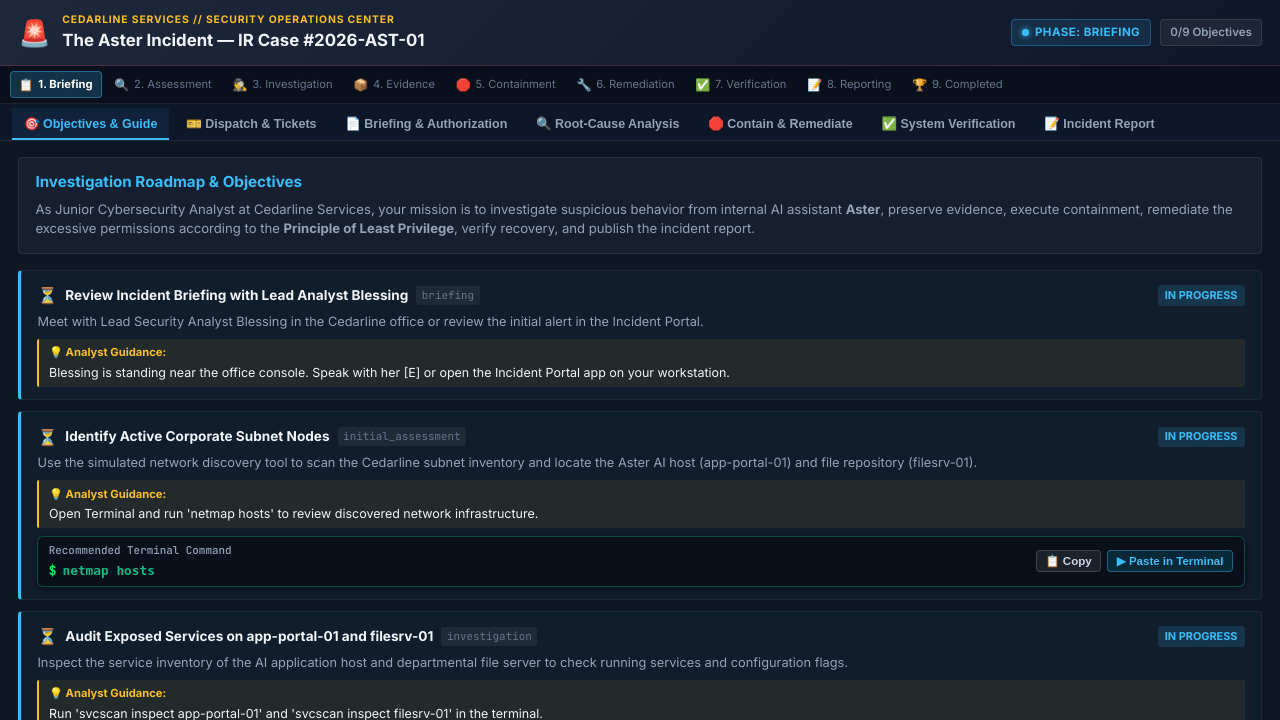
Test: IncidentApp Component › renders command copy chips in overview and allows copying incident report to clipboard
The width and height of the screenshot is (1280, 720).
expect the element with test id "command-chip-netmap_hosts" is shown: met, box [37,536,1245,586]
// Switch to Report tab
Click the tab with test id "incident-tab-report" at (1100, 124), box [1032,108,1167,140]
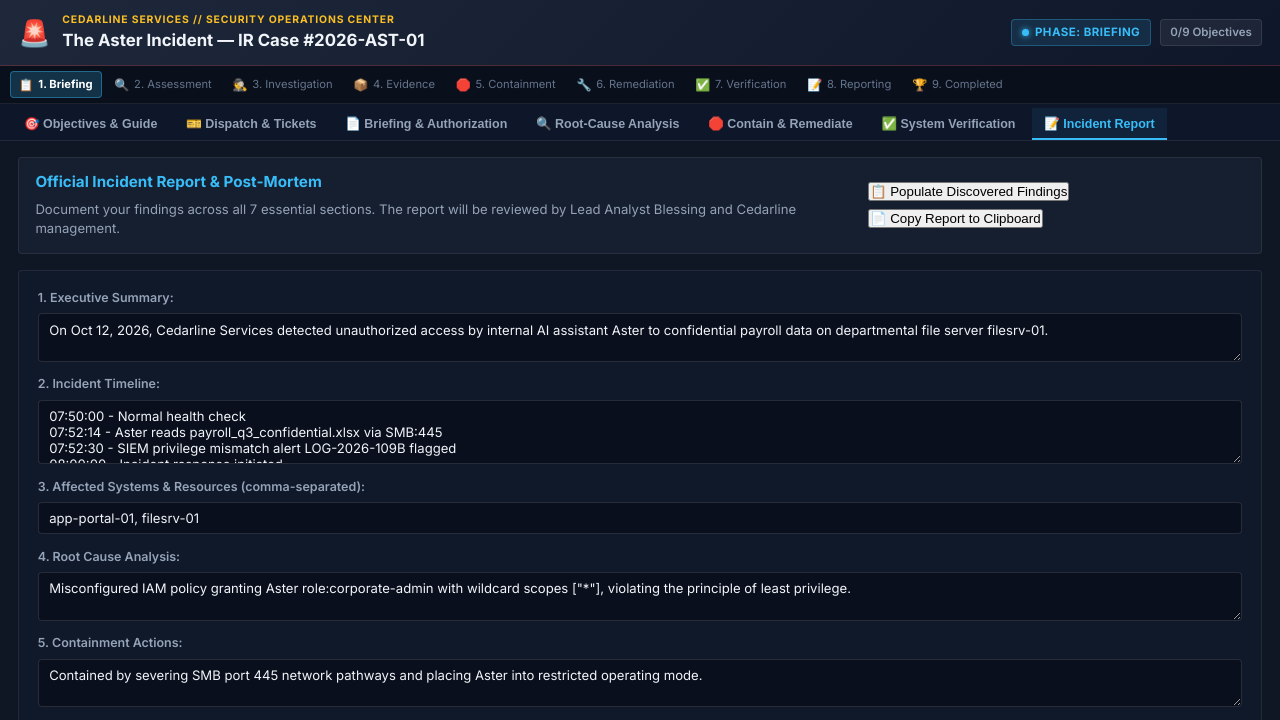
expect the button with test id "btn-copy-report-draft" is shown: met
Click the button with test id "btn-copy-report-draft" at (955, 219), box [868,209,1043,228]
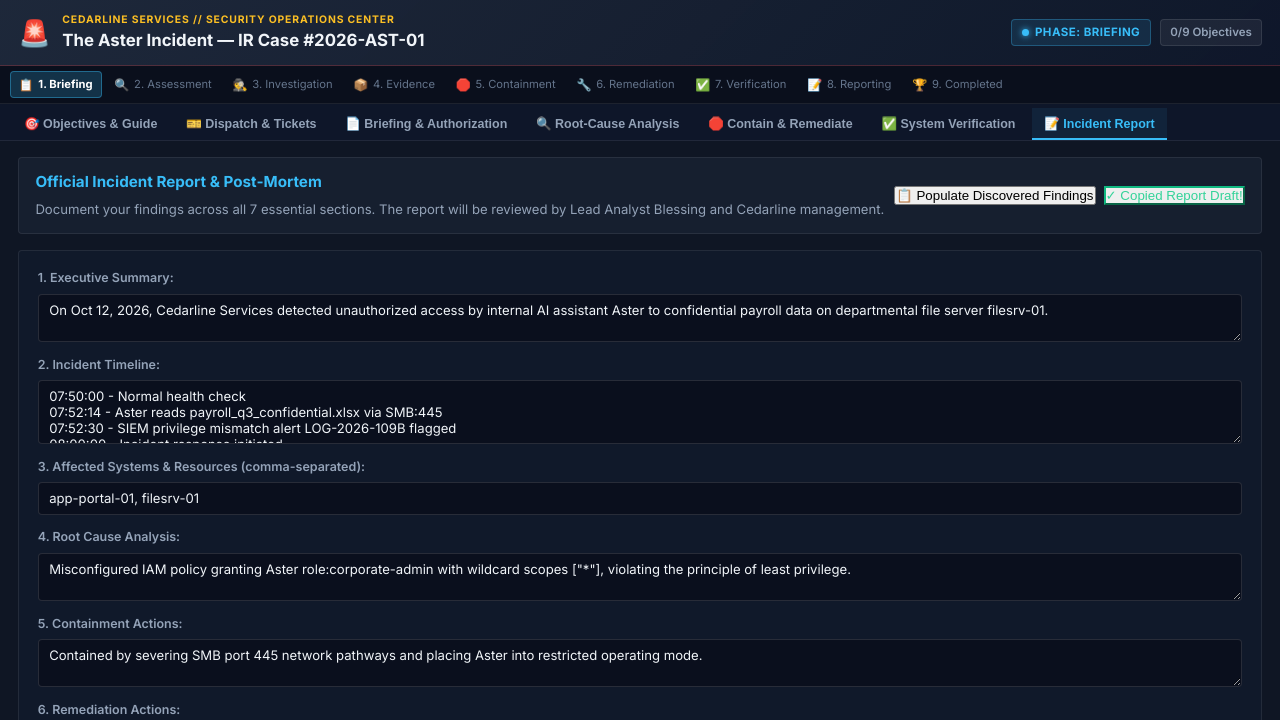
expect the button "✓ Copied Report Draft!" is shown: met, box [1104,186,1245,205]
